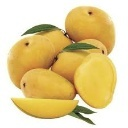mango: (6, 35, 54, 87)
